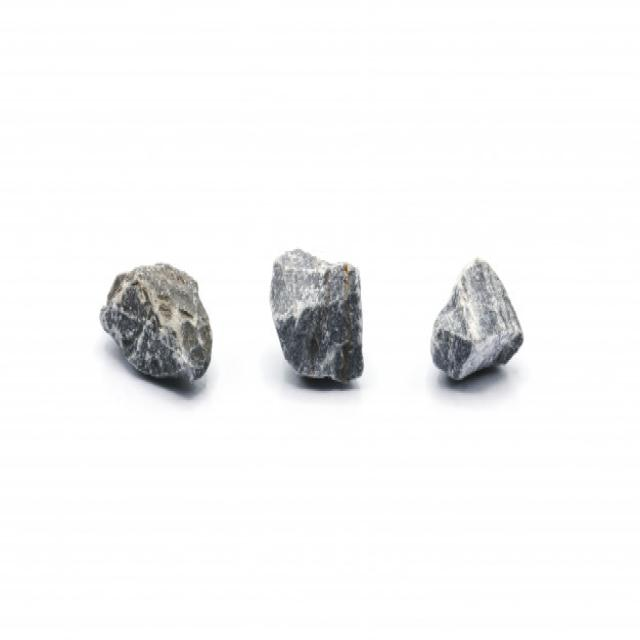Igneous: (94, 235, 217, 407), (250, 246, 384, 389), (416, 256, 531, 389)
